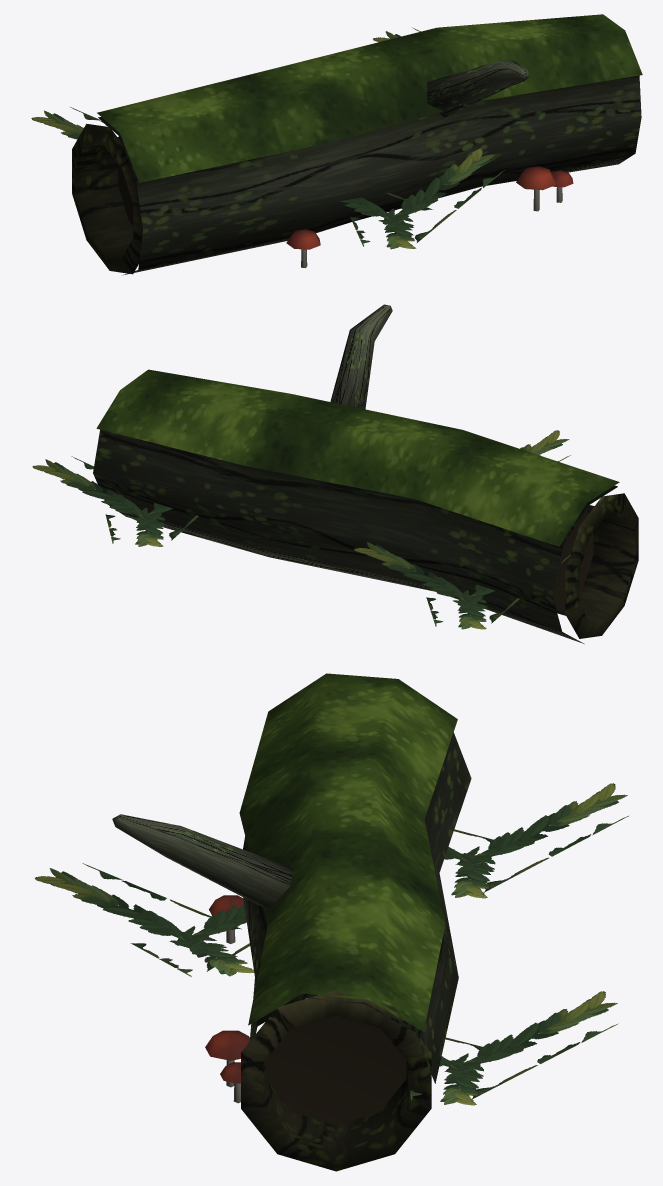
File: mirewell_mossy_log.glb
3 renders of one model, top to bottom at view 1: azimuth 30°, elevation 25°; view 2: azimuth 150°, elevation 25°; view 3: azimuth 270°, elevation 25°, orthographic. The views are drawn at different scales.
Parts seen in each view (by area): view 1: mirewell_mossy_log; view 2: mirewell_mossy_log; view 3: mirewell_mossy_log.
Boxes of the visible parts, bbox=[...] form: mirewell_mossy_log: bbox=[31, 14, 642, 275]; mirewell_mossy_log: bbox=[32, 304, 638, 643]; mirewell_mossy_log: bbox=[35, 673, 628, 1171].
Size of the model in its own units: 2.14 by 0.7303 by 1.69.
4 materials, 3 textured.
